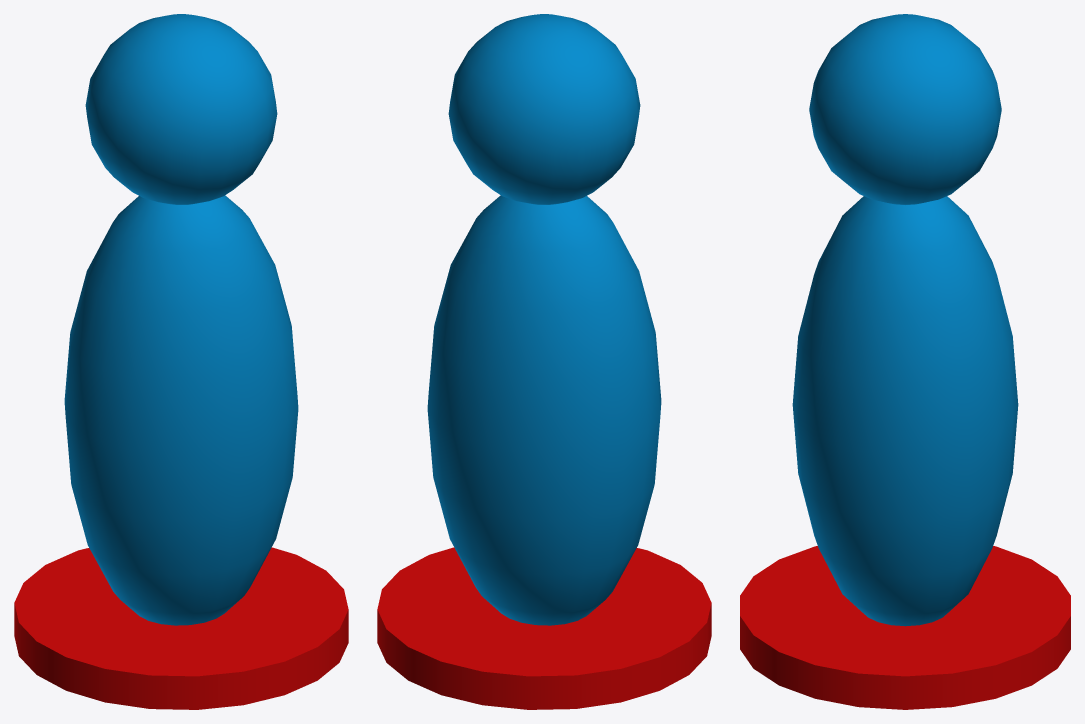
File: danbinglan.gltf
The picture shows the model from 3 angles, left to right: view 1: azimuth 30°, elevation 25°; view 2: azimuth 150°, elevation 25°; view 3: azimuth 270°, elevation 25°; orthographic projection.
Parts seen in each view (by area): view 1: Sphere001, Cylinder001, Sphere002; view 2: Sphere001, Cylinder001, Sphere002; view 3: Sphere001, Cylinder001, Sphere002.
Part boxes in pixels (x1,y1,x2,y2): Sphere001: [64, 195, 298, 625]; Cylinder001: [14, 547, 348, 709]; Sphere002: [85, 14, 277, 204]; Sphere001: [427, 195, 661, 625]; Cylinder001: [377, 547, 711, 709]; Sphere002: [448, 14, 640, 204]; Sphere001: [792, 196, 1018, 626]; Cylinder001: [740, 546, 1070, 709]; Sphere002: [809, 14, 1001, 204].
Size of the model in its own units: 54.22 by 110 by 53.67.
